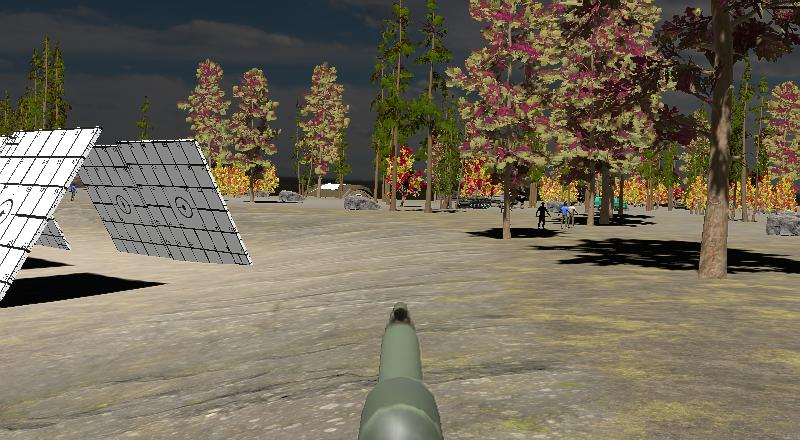Human: (557, 202, 571, 229)
Tank: (456, 193, 494, 210)
car: (592, 193, 633, 212)
